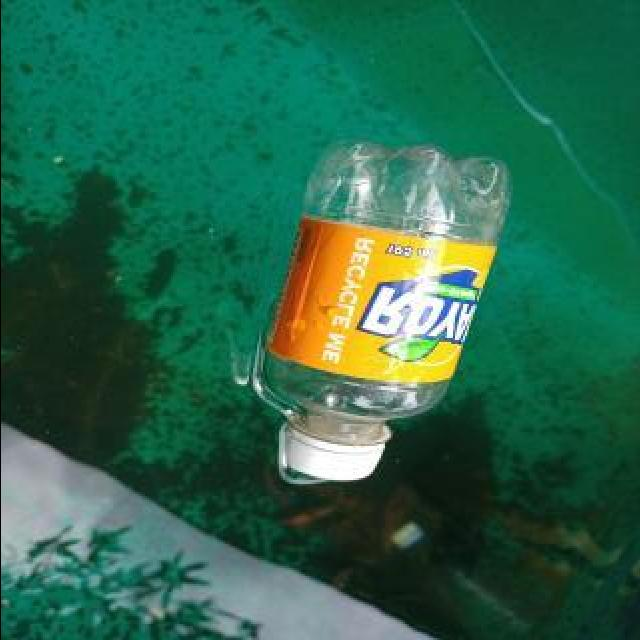Bottle: (244, 133, 518, 495)
